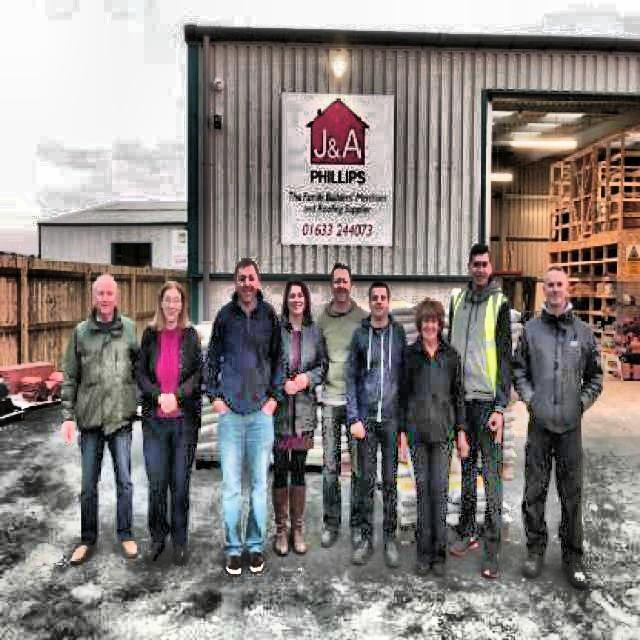safety_jacket: (449, 287, 511, 393)
